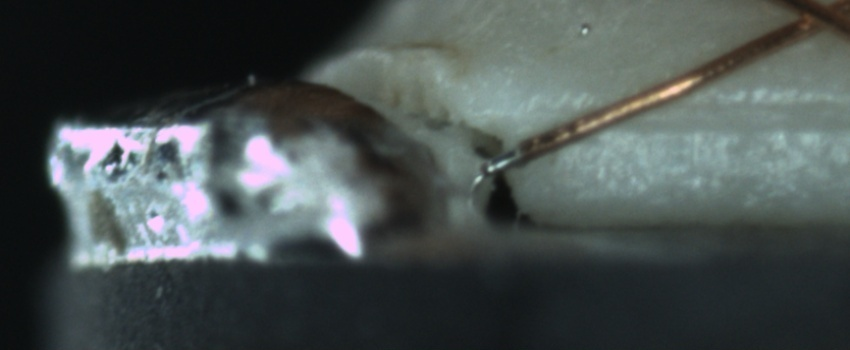CL: (768, 0, 846, 44)
DL: (573, 79, 843, 149)
TS: (483, 145, 524, 173)
